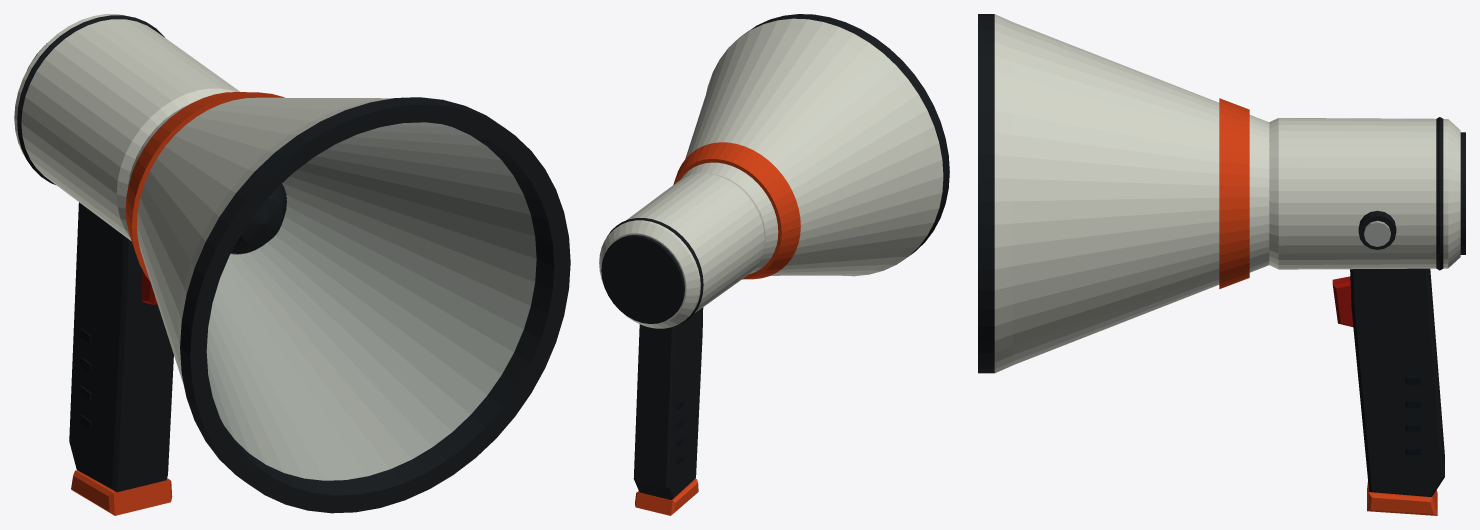
File: MegaphoneNormal.obj
3 views of the same model, side by side, from view 1: azimuth 30°, elevation 25°; view 2: azimuth 150°, elevation 25°; view 3: azimuth 270°, elevation 25° (orthographic). The views are drawn at different scales.
Parts seen in each view (by area): view 1: InnerPlastic, BlackPlastic, WhitePlastic, OrangeTrim; view 2: WhitePlastic, BlackPlastic, OrangeTrim; view 3: WhitePlastic, BlackPlastic, OrangeTrim, SwitchRed, InnerPlastic, Rubber.
Boxes of the visible parts, left/top/right/bottom form: InnerPlastic: left=206, top=122, right=536, bottom=480; BlackPlastic: left=17, top=15, right=570, bottom=513; WhitePlastic: left=14, top=14, right=392, bottom=394; OrangeTrim: left=71, top=92, right=284, bottom=515; WhitePlastic: left=599, top=18, right=943, bottom=328; BlackPlastic: left=601, top=14, right=949, bottom=499; OrangeTrim: left=635, top=142, right=800, bottom=515; WhitePlastic: left=994, top=14, right=1460, bottom=373; BlackPlastic: left=978, top=14, right=1465, bottom=496; OrangeTrim: left=1219, top=98, right=1437, bottom=515; SwitchRed: left=1332, top=276, right=1353, bottom=326; InnerPlastic: left=1364, top=220, right=1390, bottom=246; Rubber: left=1405, top=377, right=1422, bottom=455.
Bounding box in the file's own units: 0.346 × 0.503 × 0.469.
